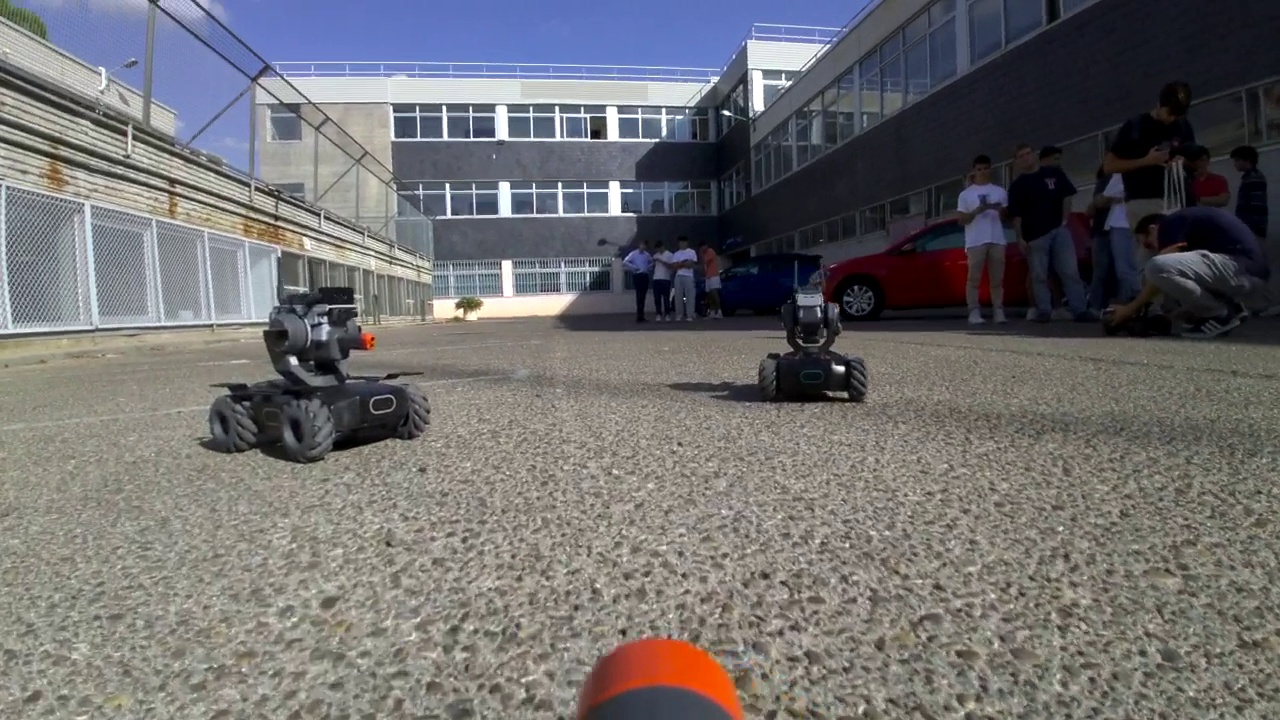robot: (209, 255, 434, 461), (753, 253, 872, 402)
